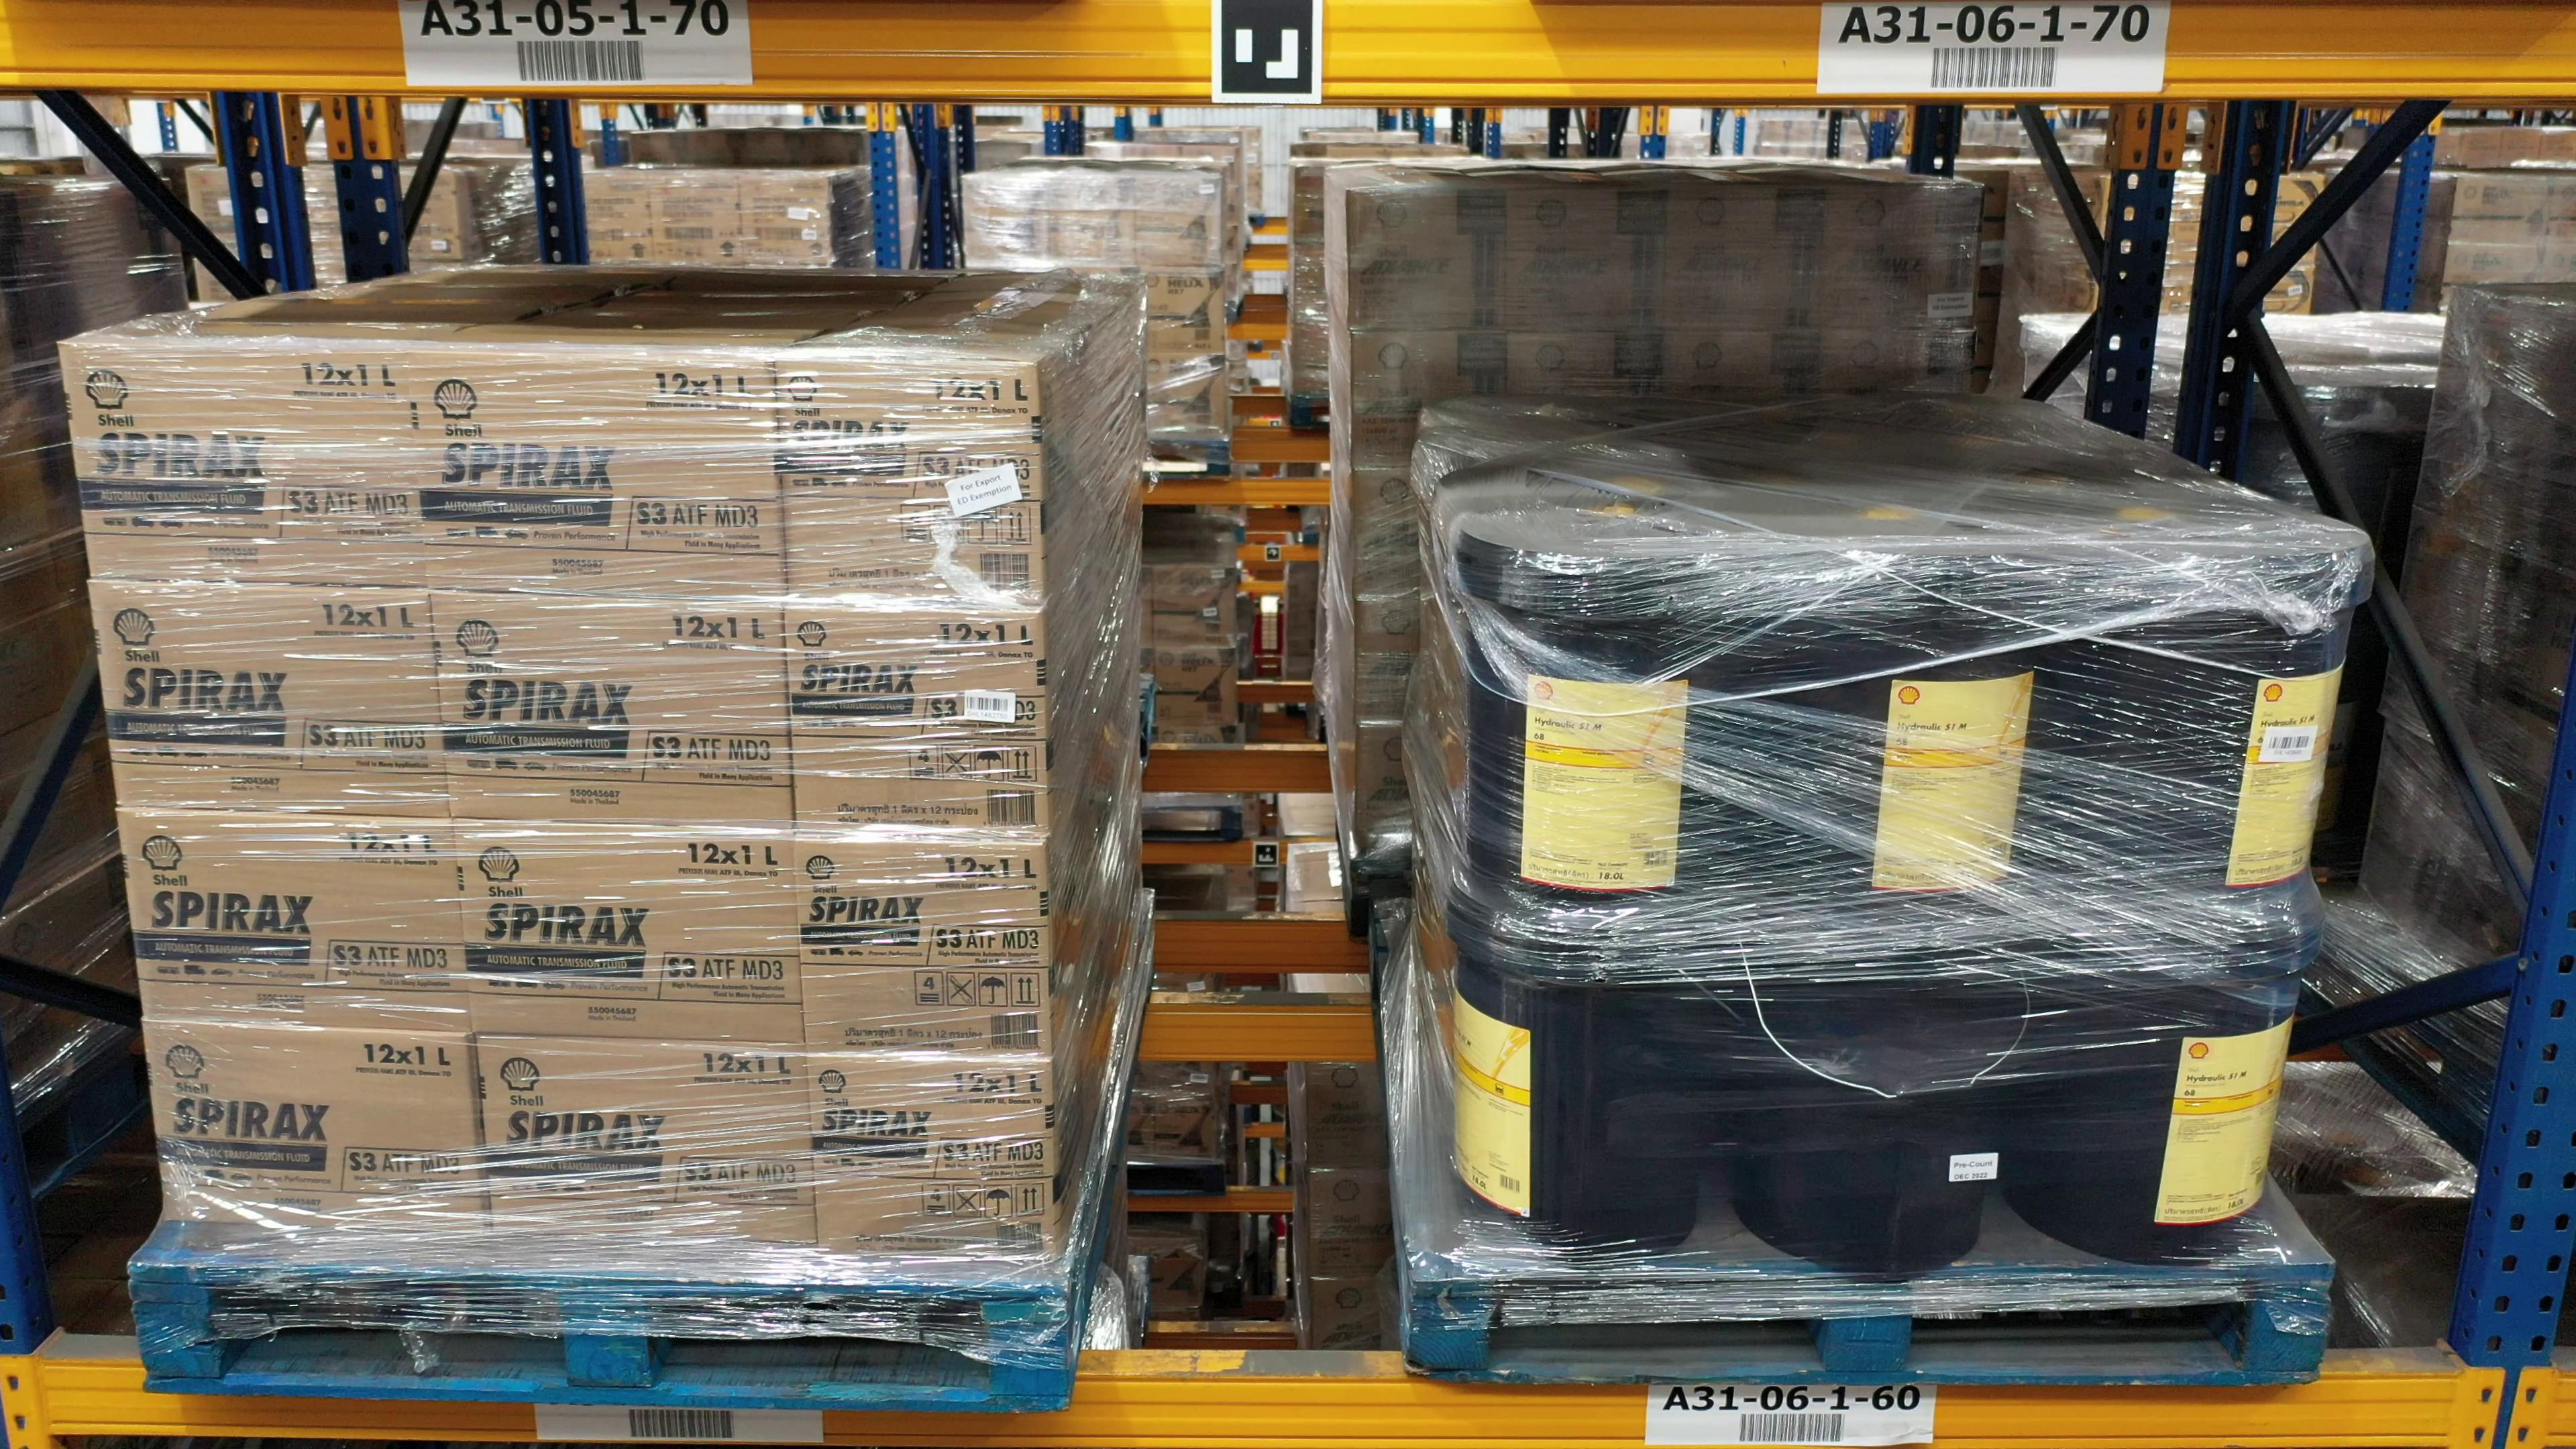-: (1778, 541, 2074, 924), (2026, 895, 2325, 1261), (1729, 916, 2022, 1269), (1451, 890, 1720, 1269), (412, 340, 787, 603), (1467, 533, 1723, 908), (2111, 534, 2373, 897), (60, 341, 430, 587), (430, 587, 796, 833), (90, 579, 449, 823), (113, 810, 474, 1035), (142, 1017, 488, 1247), (449, 821, 803, 1044), (469, 1035, 816, 1247), (771, 349, 1047, 609), (786, 602, 1051, 840), (796, 837, 1051, 1065), (807, 1051, 1056, 1265)
box: (1661, 170, 1829, 336), (1824, 172, 1983, 336), (1509, 177, 1670, 333), (1346, 179, 1507, 333)
